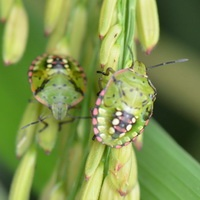insect: (92, 61, 155, 147), (28, 54, 85, 120)
